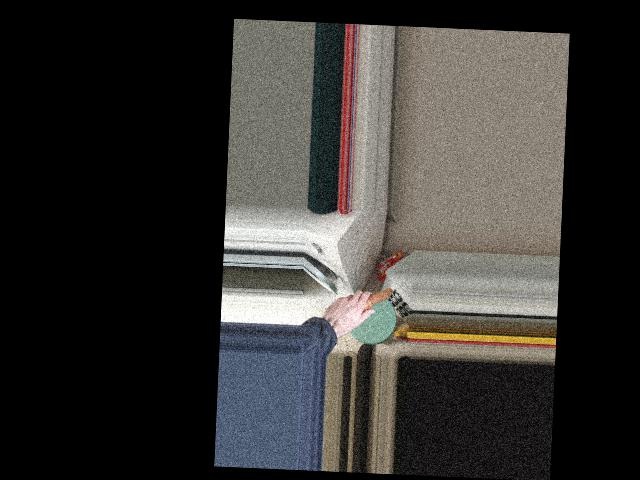sweet_potato: (338, 285, 390, 326)
